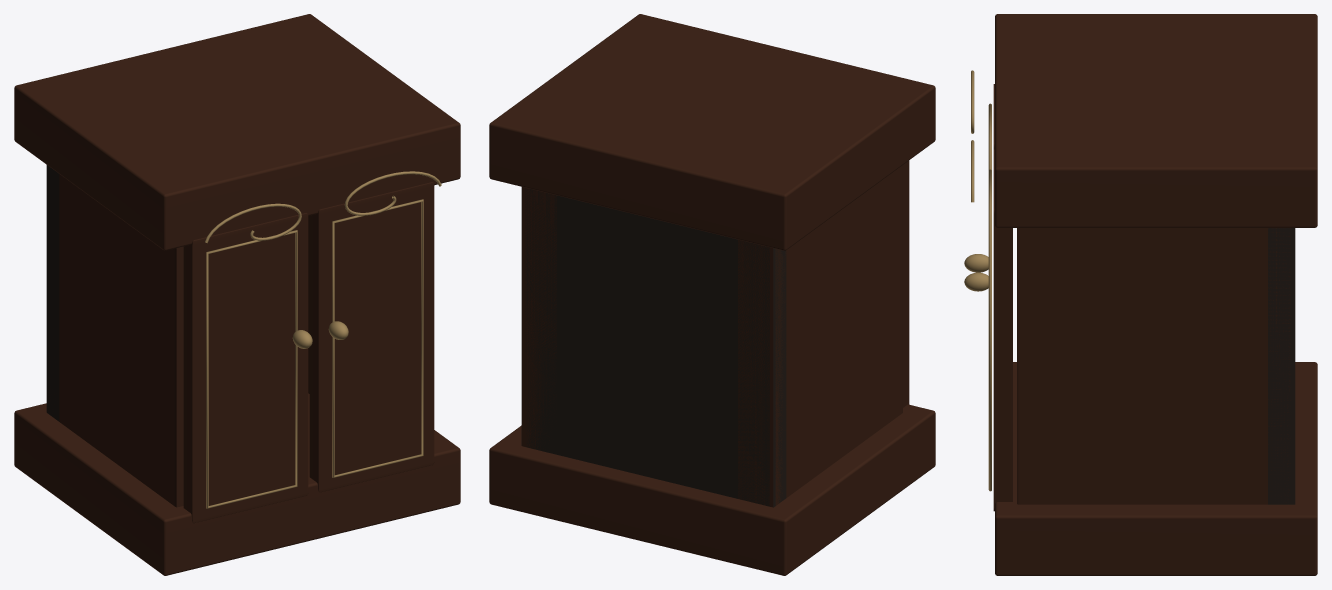
The model's file is Small_Cabinet.fbx.
3 views of the same model, side by side, from view 1: azimuth 30°, elevation 25°; view 2: azimuth 150°, elevation 25°; view 3: azimuth 270°, elevation 25° (orthographic). The views are drawn at different scales.
Parts seen in each view (by area): view 1: Plinth cornice.009, Raised wooden panel.027, Raised wooden panel.028, Upright.008, Plinth cornice.008, Back.004, Panel moulding.121, Panel moulding.122, Gilded scroll.026, Gilded scroll.027; view 2: Plinth cornice.009, Back.004, Upright.008, Plinth cornice.008, Upright.009, Raised wooden panel.027; view 3: Upright.009, Plinth cornice.009, Plinth cornice.008, Back.004, Raised wooden panel.028, Panel moulding.122.
Boxes of the visible parts, box(x1,y1,x2,y2) form: Plinth cornice.009: box(14, 14, 460, 250); Raised wooden panel.027: box(183, 213, 308, 523); Raised wooden panel.028: box(309, 182, 434, 492); Upright.008: box(48, 174, 183, 507); Plinth cornice.008: box(14, 393, 460, 575); Back.004: box(46, 165, 59, 421); Panel moulding.121: box(206, 230, 297, 508); Panel moulding.122: box(332, 199, 423, 477); Gilded scroll.026: box(205, 203, 301, 243); Gilded scroll.027: box(344, 171, 441, 215); Plinth cornice.009: box(489, 14, 935, 250); Back.004: box(521, 187, 786, 507); Upright.008: box(738, 165, 902, 507); Plinth cornice.008: box(489, 404, 935, 575); Upright.009: box(522, 187, 556, 451); Raised wooden panel.027: box(903, 160, 909, 407); Upright.009: box(1017, 228, 1291, 504); Plinth cornice.009: box(995, 14, 1317, 227); Plinth cornice.008: box(995, 362, 1317, 575); Back.004: box(1268, 228, 1295, 504); Raised wooden panel.028: box(993, 149, 1012, 511); Panel moulding.122: box(988, 169, 991, 491).
Bounding box in the file's own units: 0.66 × 0.82 × 0.635.
